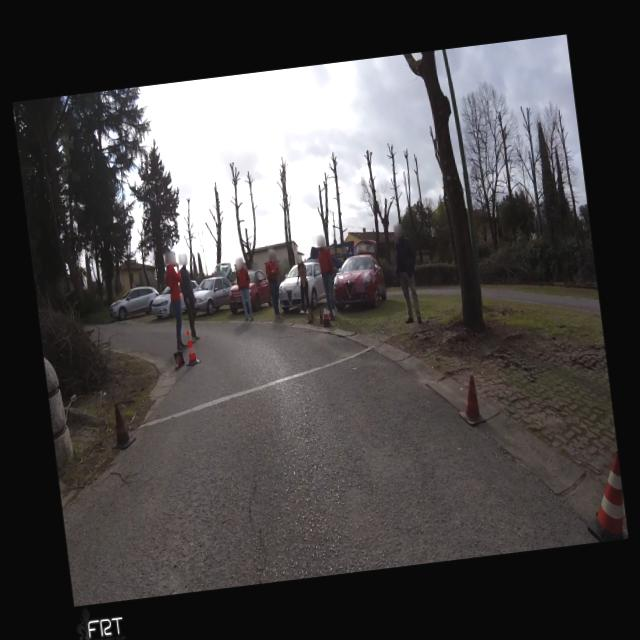large_orange_cone: (578, 451, 628, 543), (182, 328, 201, 366)
orange_cone: (320, 302, 330, 320)
unknown_cone: (455, 374, 486, 426), (107, 402, 137, 449), (173, 352, 186, 371)
